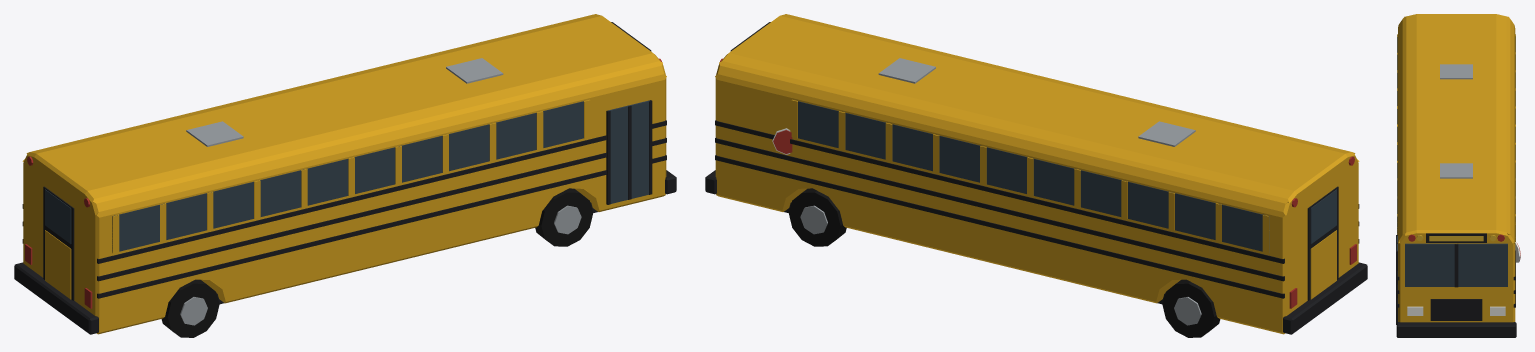
Rendered from bus.glb.
The picture shows the model from 3 angles, left to right: view 1: azimuth 30°, elevation 25°; view 2: azimuth 150°, elevation 25°; view 3: azimuth 270°, elevation 25°; orthographic projection. The views are drawn at different scales.
Visible parts, largest first — view 1: body, windows, rails, wheels_r, door, pillars, bumper_r, hatches, back_panel, door_frame, hubs_r, back_glass (+1 smaller); view 2: body, windows, rails, wheels_l, pillars, bumper_r, hatches, back_panel, hubs_l, back_glass, back_door; view 3: body, windshield, bumper_f, grille, hatches, pillars, windows, sign, sign_face, divider, head_r, door_frame (+2 smaller).
Boxes of the visible parts, x1,y1,x2,y2 form: body: (22, 14, 666, 334); windows: (112, 101, 583, 251); rails: (22, 120, 666, 298); wheels_r: (161, 188, 593, 337); door: (608, 100, 649, 203); pillars: (112, 99, 590, 253); bumper_r: (14, 262, 98, 334); hatches: (186, 58, 503, 146); back_panel: (45, 230, 71, 299); door_frame: (606, 100, 652, 204); hubs_r: (180, 205, 581, 325); back_glass: (45, 189, 71, 243); body: (715, 14, 1359, 334); windows: (798, 101, 1269, 252); rails: (715, 120, 1359, 298); wheels_l: (788, 188, 1220, 337); pillars: (791, 99, 1269, 253); bumper_r: (1283, 262, 1367, 334); hatches: (878, 58, 1195, 146); back_panel: (1310, 230, 1336, 299); hubs_l: (800, 205, 1201, 325); back_glass: (1310, 189, 1336, 243); back_door: (1307, 186, 1338, 300); body: (1398, 14, 1515, 322); windshield: (1405, 243, 1507, 286); bumper_f: (1396, 322, 1516, 337); grille: (1430, 299, 1482, 320); hatches: (1440, 64, 1472, 178); pillars: (1397, 34, 1515, 241); windows: (1397, 34, 1515, 241); sign: (1426, 233, 1486, 242); sign_face: (1429, 236, 1483, 241); divider: (1454, 243, 1458, 287); head_r: (1407, 306, 1423, 315); door_frame: (1396, 235, 1397, 324).
Bounding box in the file's own units: 11.32 × 3.03 × 2.66.
Materials: 8 (8 with a texture image).
